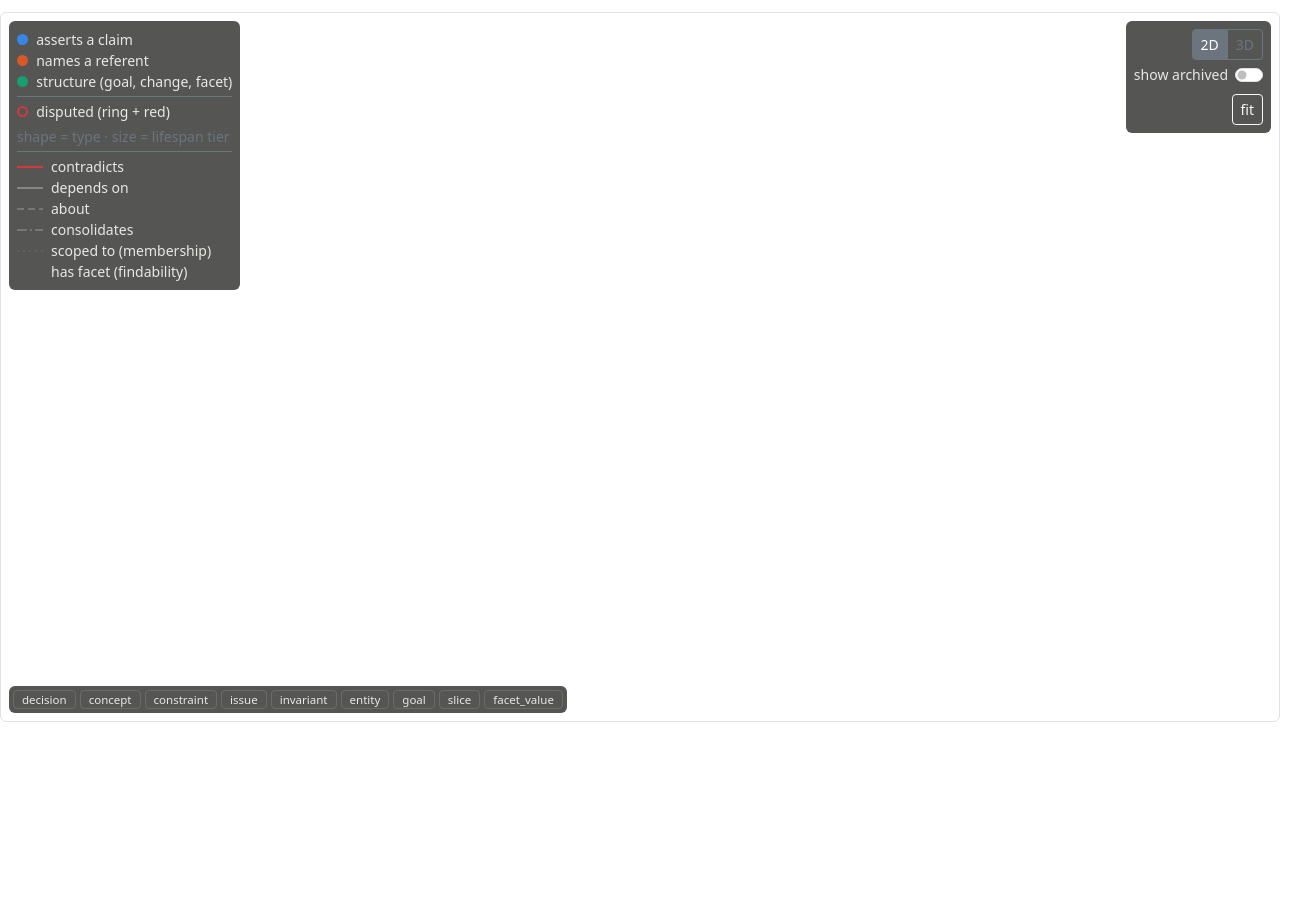
failures are surfaced, not swallowed › shows the server’s message when an edit is refused
Click the 1st element with class "end-0".
click(640, 367)  # box [1,13,1279,721]
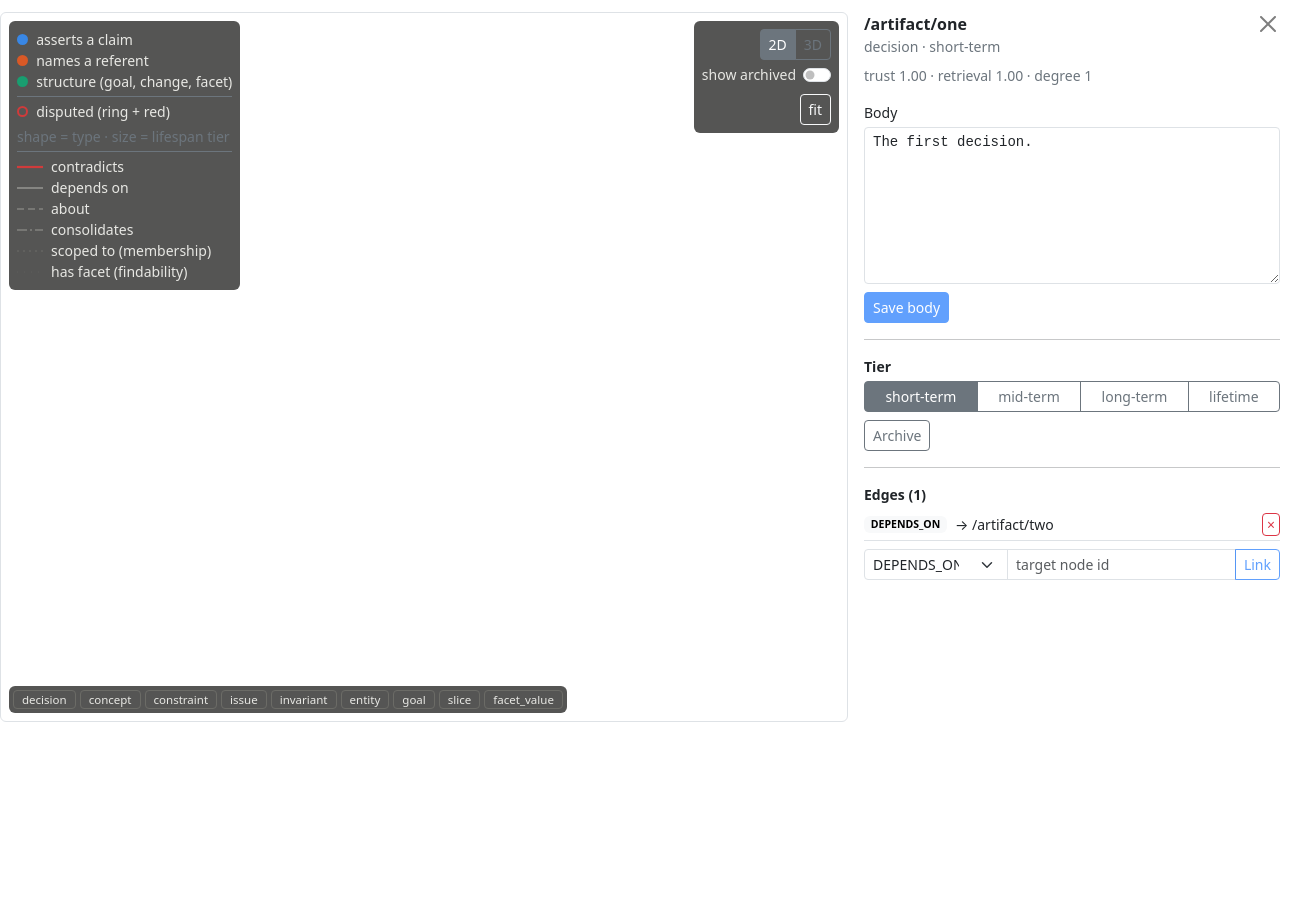
Click the button titled "Remove this edge (journaled)".
click(1271, 524)  # box [1262,513,1280,536]
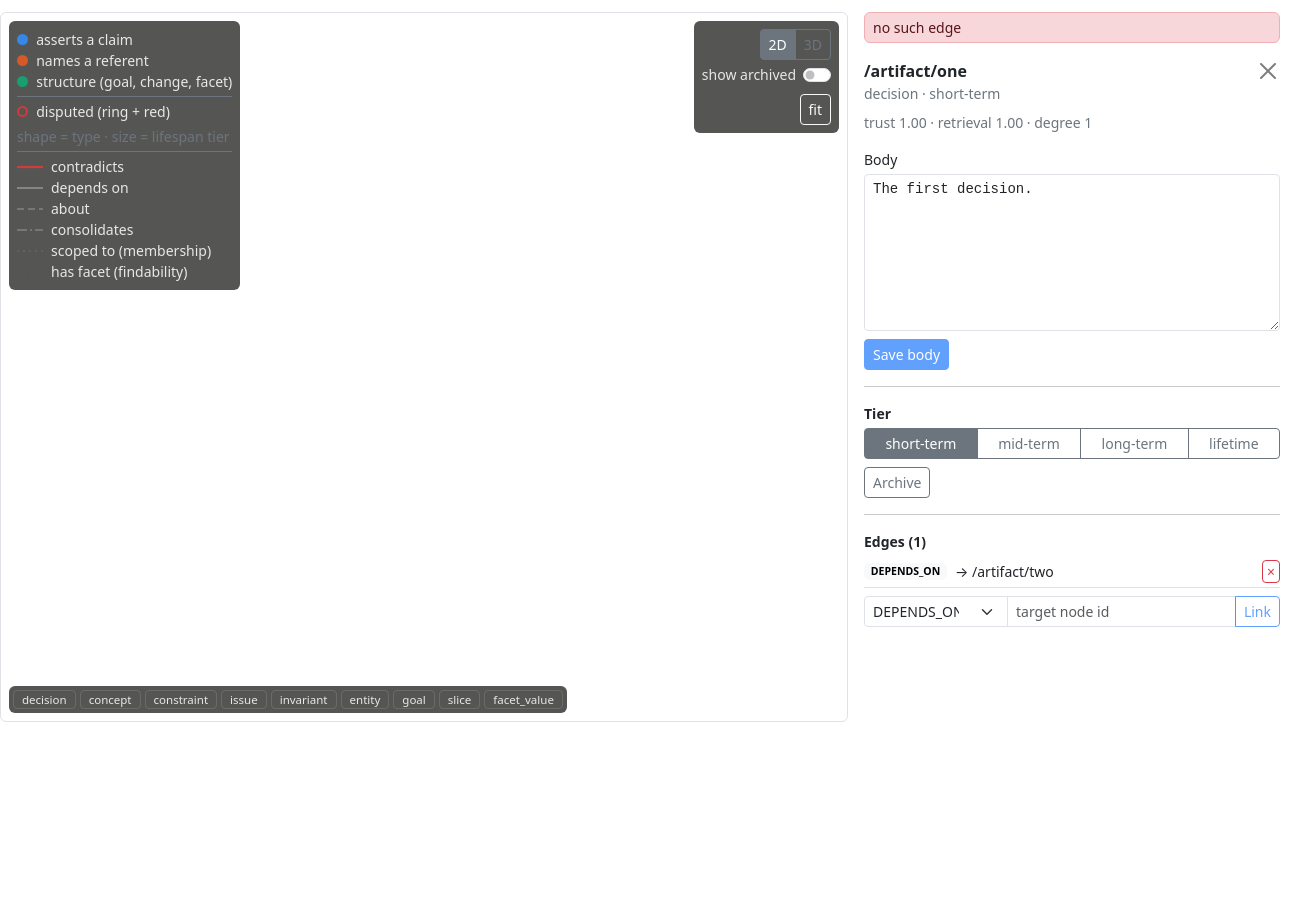
Now the text "no such edge" is shown, box [864,12,1280,43]
